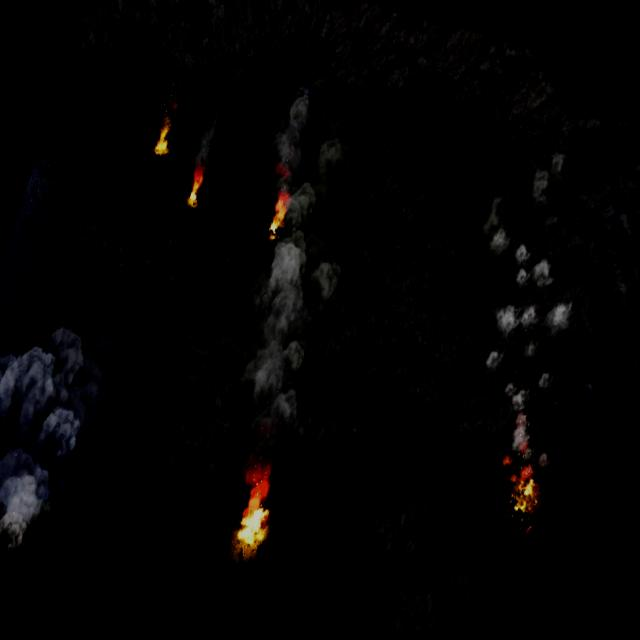fire: (232, 490, 276, 550), (502, 468, 544, 518), (266, 193, 292, 237), (184, 166, 209, 208), (152, 124, 174, 154)
smoke: (172, 89, 390, 502), (413, 129, 637, 476), (0, 296, 131, 570), (190, 106, 222, 170)
